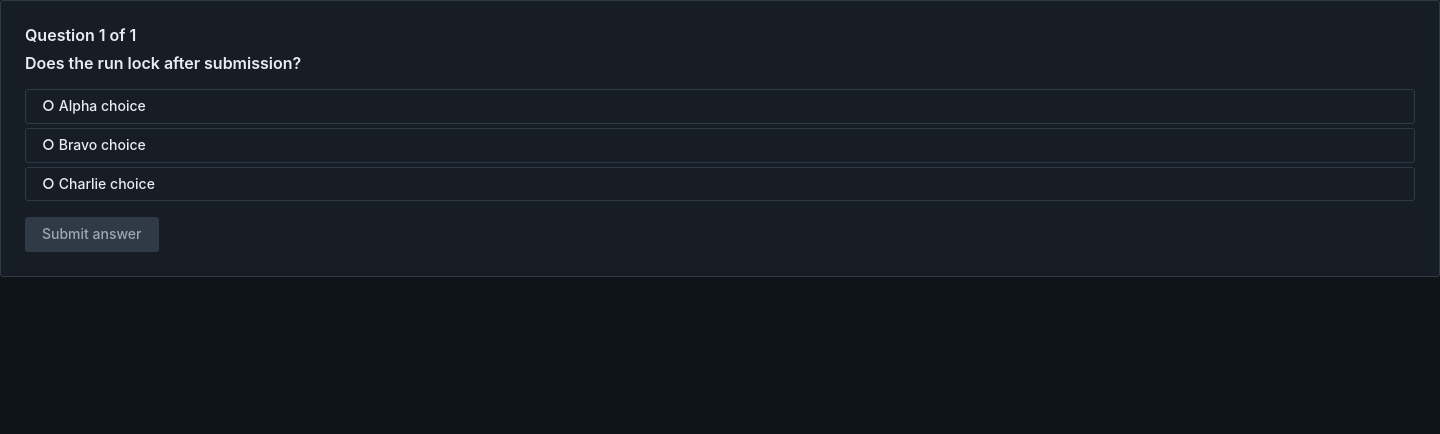
Test case: QuestionRun: answering one question › shows the rationale after submission, and not before
Expected: the text "Bravo is correct because" is not shown
Click the button "○Alpha choice" at (102, 106), box [25,89,1415,124]
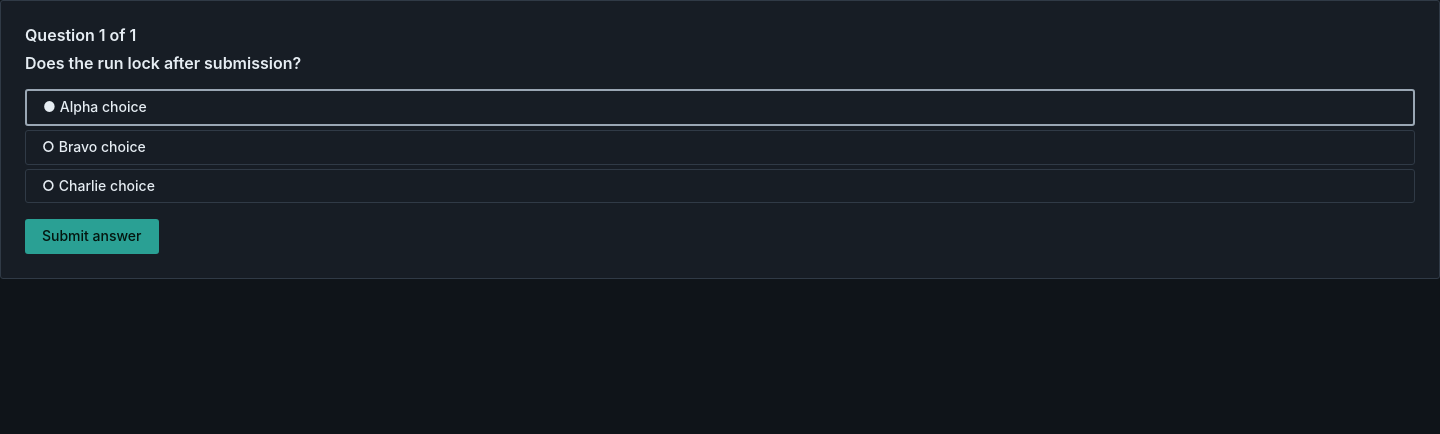
Click the button "Submit answer" at (92, 237), box [25,219,158,254]
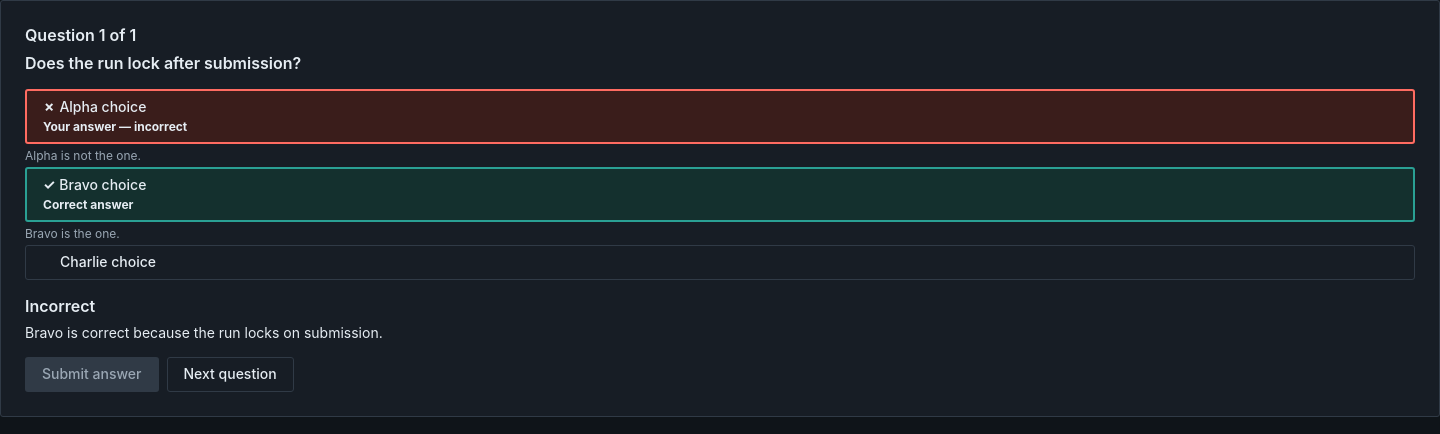
Expected: the text "Bravo is correct because the run locks on submission." is shown, [25,324,383,341]
